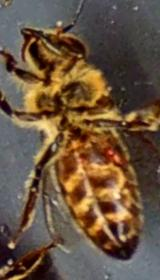varroa_mite: (92, 142, 138, 178)
